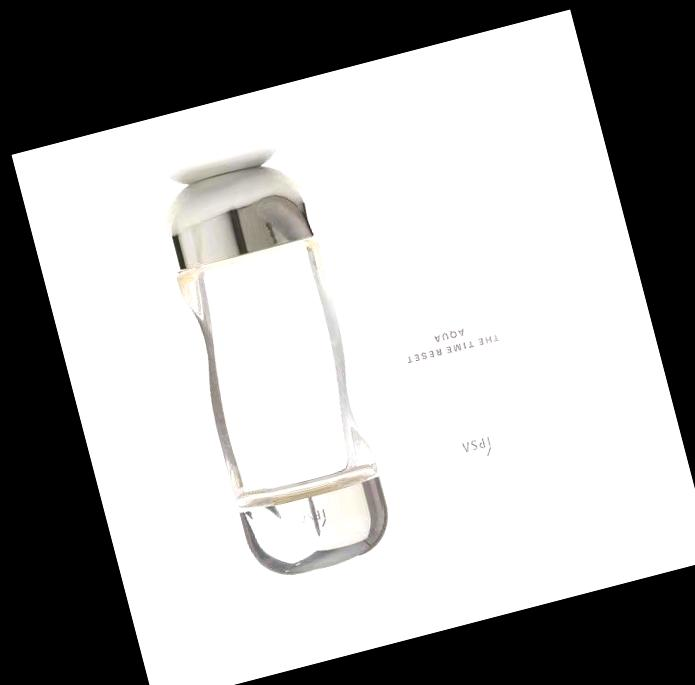cosmetic: (147, 152, 397, 586)
